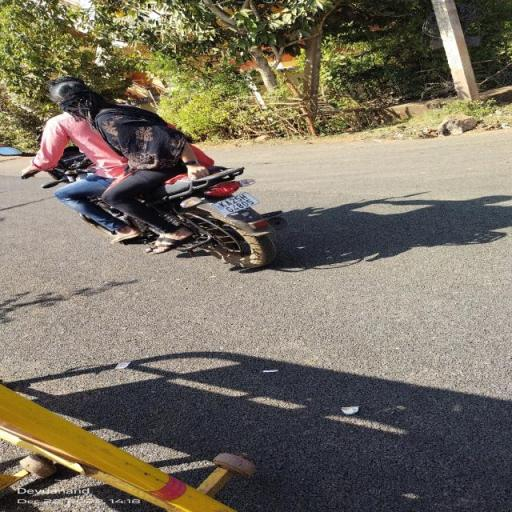bike: (17, 66, 291, 270)
numberplate: (212, 182, 256, 220)
withouthelmet: (55, 82, 93, 112)
